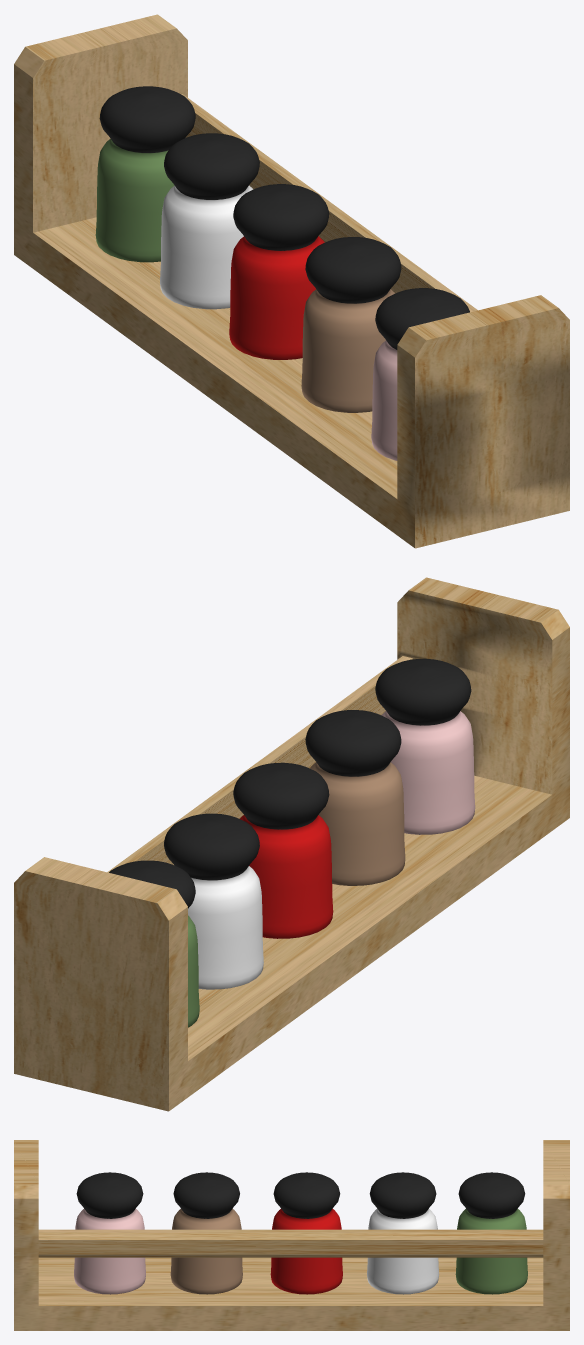
Rendered from Kitchen Condiments.fbx.
3 views of the same model, one above another, from view 1: azimuth 30°, elevation 25°; view 2: azimuth 150°, elevation 25°; view 3: azimuth 270°, elevation 25° (orthographic). The views are drawn at different scales.
Visible parts, largest first — view 1: Wood, Red_Chili_Powder, Pepper, Sugar, Herbs, Salt; view 2: Wood, Pepper, Salt, Red_Chili_Powder, Sugar, Herbs; view 3: Wood, Pepper, Red_Chili_Powder, Salt, Herbs, Sugar.
Part boxes in pixels (x1=…): Wood: x1=14, y1=14, x2=569, y2=548; Red_Chili_Powder: x1=229, y1=184, x2=329, y2=359; Pepper: x1=301, y1=237, x2=401, y2=412; Sugar: x1=160, y1=133, x2=259, y2=309; Herbs: x1=95, y1=86, x2=195, y2=262; Salt: x1=371, y1=288, x2=469, y2=460; Wood: x1=14, y1=577, x2=569, y2=1111; Pepper: x1=305, y1=710, x2=405, y2=885; Salt: x1=375, y1=658, x2=475, y2=834; Red_Chili_Powder: x1=233, y1=762, x2=333, y2=938; Sugar: x1=164, y1=813, x2=263, y2=989; Herbs: x1=109, y1=860, x2=199, y2=1027; Wood: x1=14, y1=1140, x2=569, y2=1330; Pepper: x1=170, y1=1172, x2=242, y2=1294; Red_Chili_Powder: x1=270, y1=1172, x2=342, y2=1294; Salt: x1=74, y1=1172, x2=145, y2=1294; Herbs: x1=455, y1=1172, x2=527, y2=1294; Sugar: x1=367, y1=1172, x2=439, y2=1294.
Size of the model in its own units: 4.47 by 5.67 by 20.07.
Materials: 6 (6 with a texture image).
